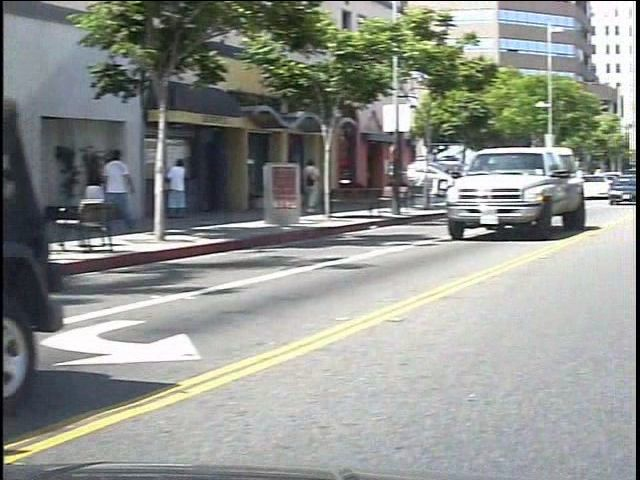person: (96, 148, 126, 238), (181, 143, 205, 226), (117, 145, 150, 203), (317, 156, 338, 217)
